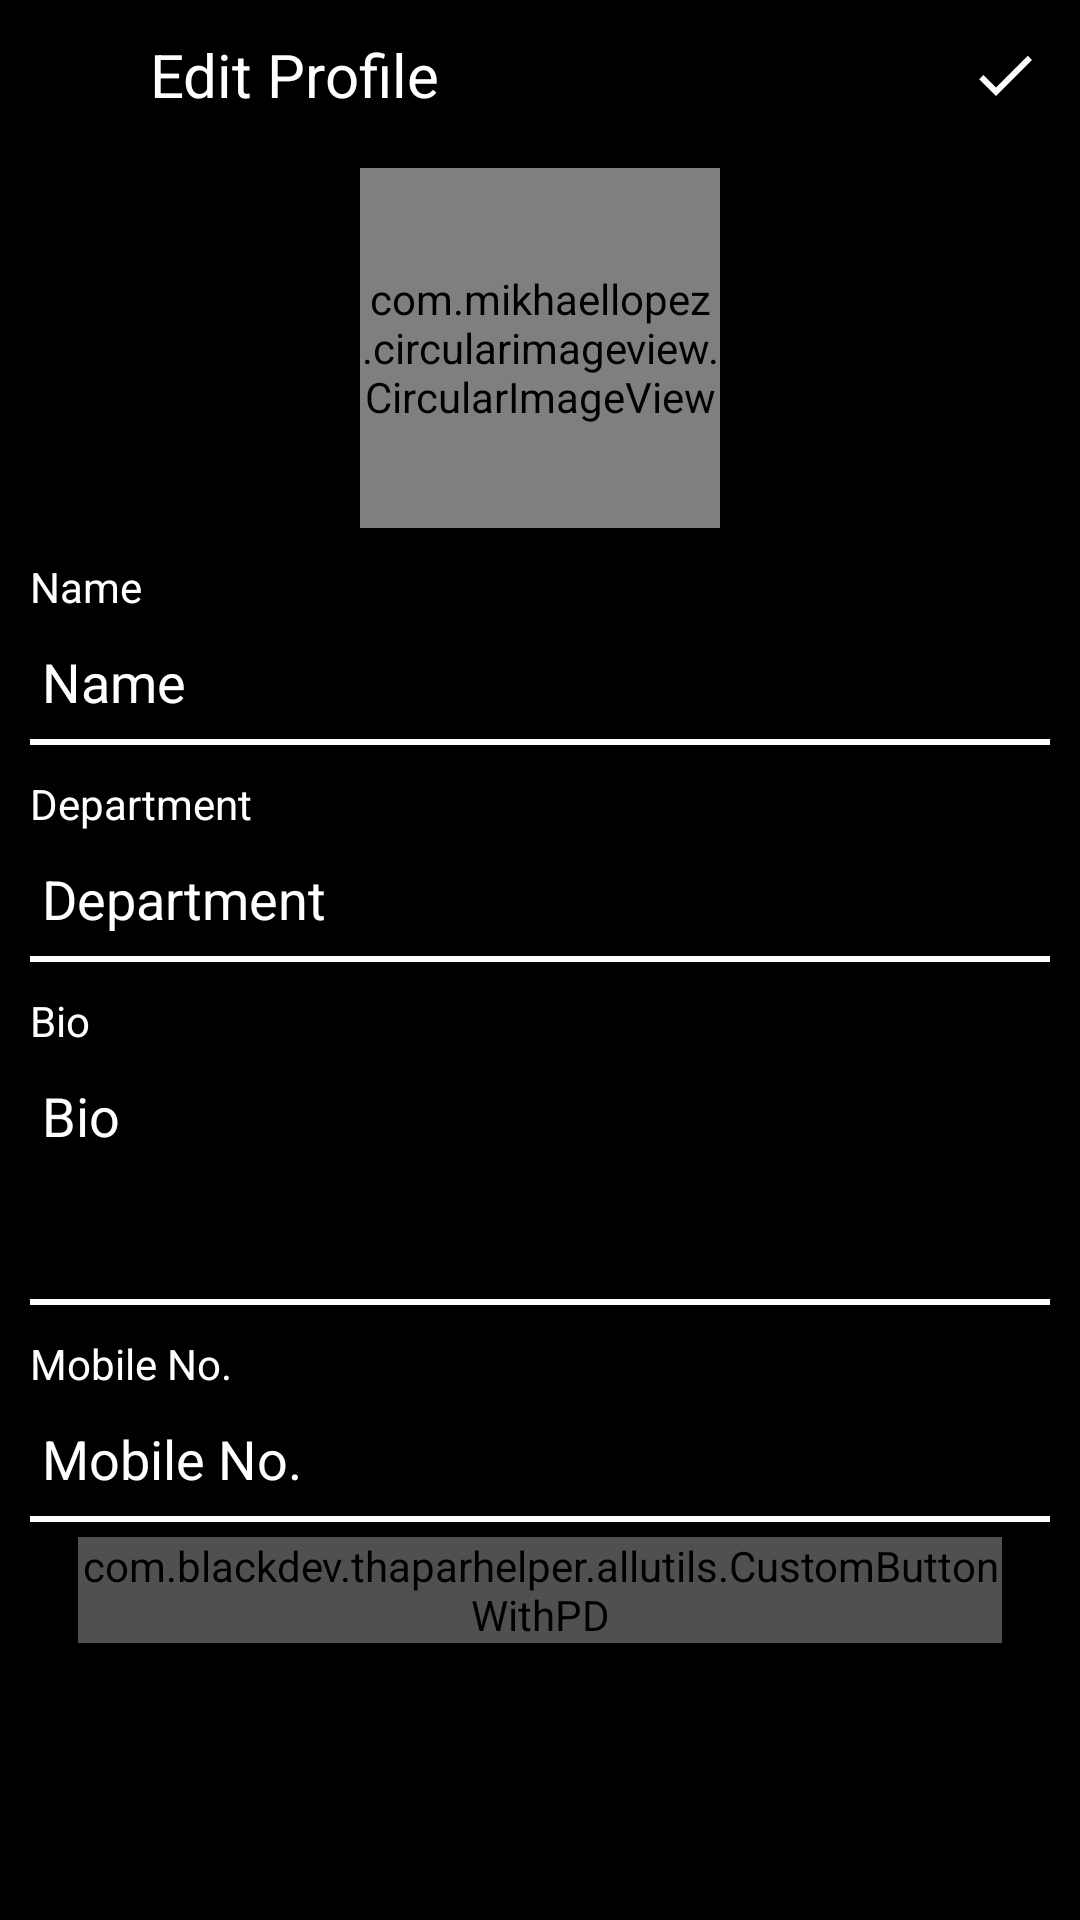

Named icons in this screenshot (1080×1920) and their bounding boxes, {"left": x1, "top": y1, "right": x2, "bottom": y2}:
done tick: {"left": 979, "top": 56, "right": 1032, "bottom": 96}
